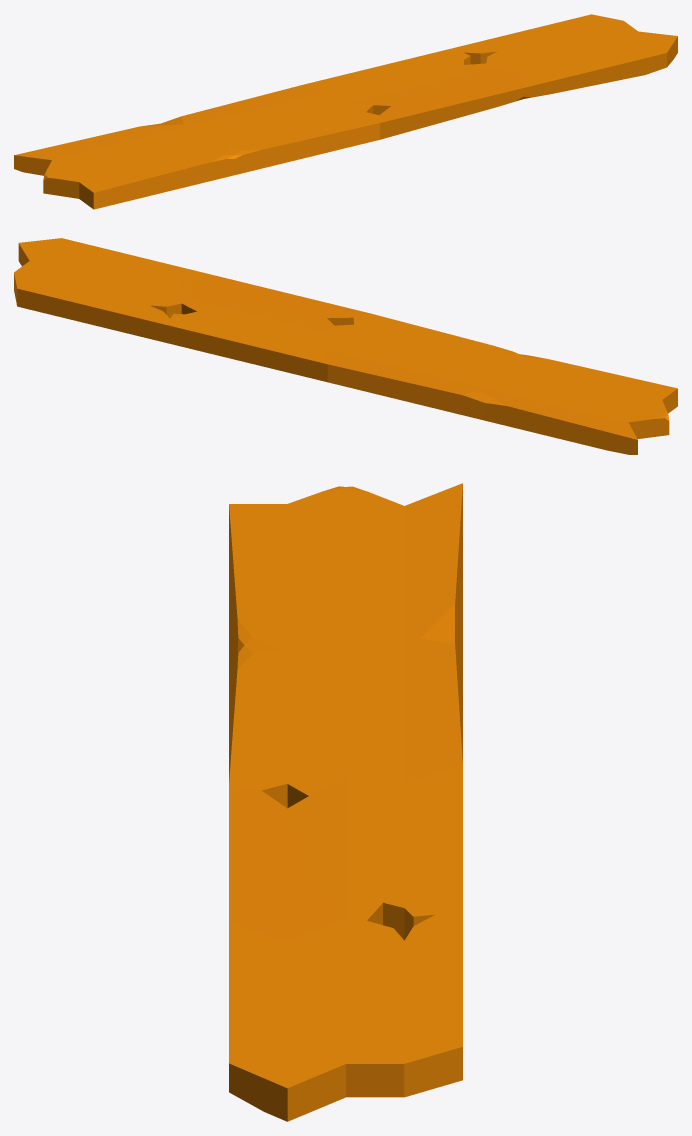
Rendered from Rotten wood_7.fbx.
3 views of the same model, one above another, from view 1: azimuth 30°, elevation 25°; view 2: azimuth 150°, elevation 25°; view 3: azimuth 270°, elevation 25° (orthographic). The views are drawn at different scales.
Visible parts, largest first — view 1: Cube.062; view 2: Cube.062; view 3: Cube.062.
Part boxes in pixels (x1,y1,x2,y2): Cube.062: (14,14,677,209); Cube.062: (14,238,677,454); Cube.062: (229,483,462,1121).
Bounding box in the file's own units: 79.98 × 2.07 × 13.07.
